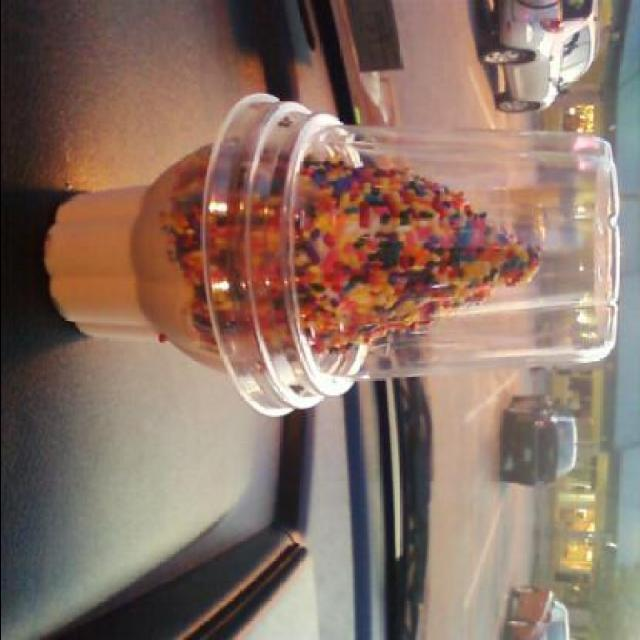Ice cream: (52, 84, 594, 418)
